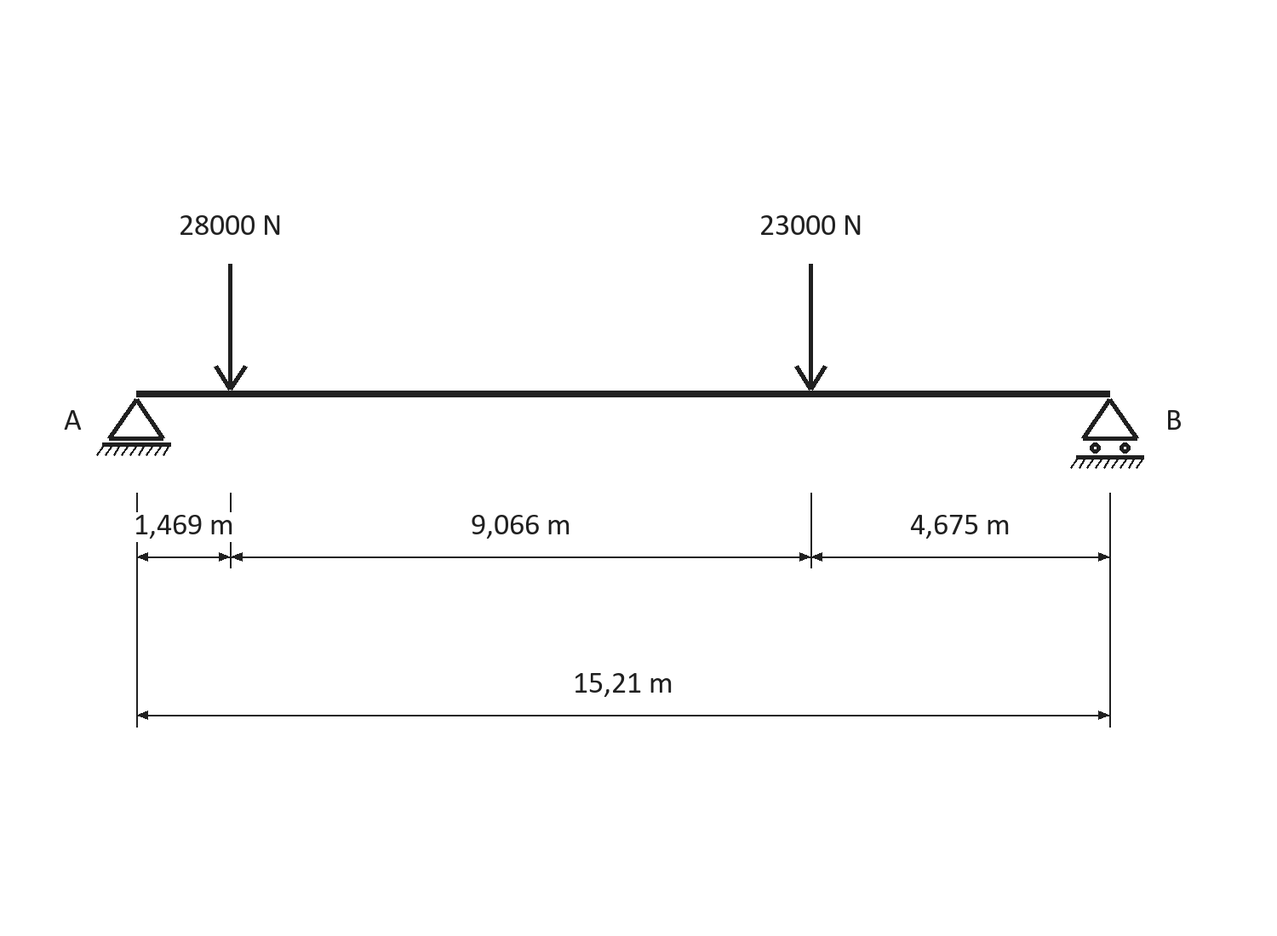pin_support: (96, 398, 171, 456)
point_load: (214, 264, 248, 391), (794, 264, 827, 391)
roller_support: (1070, 398, 1144, 469)
